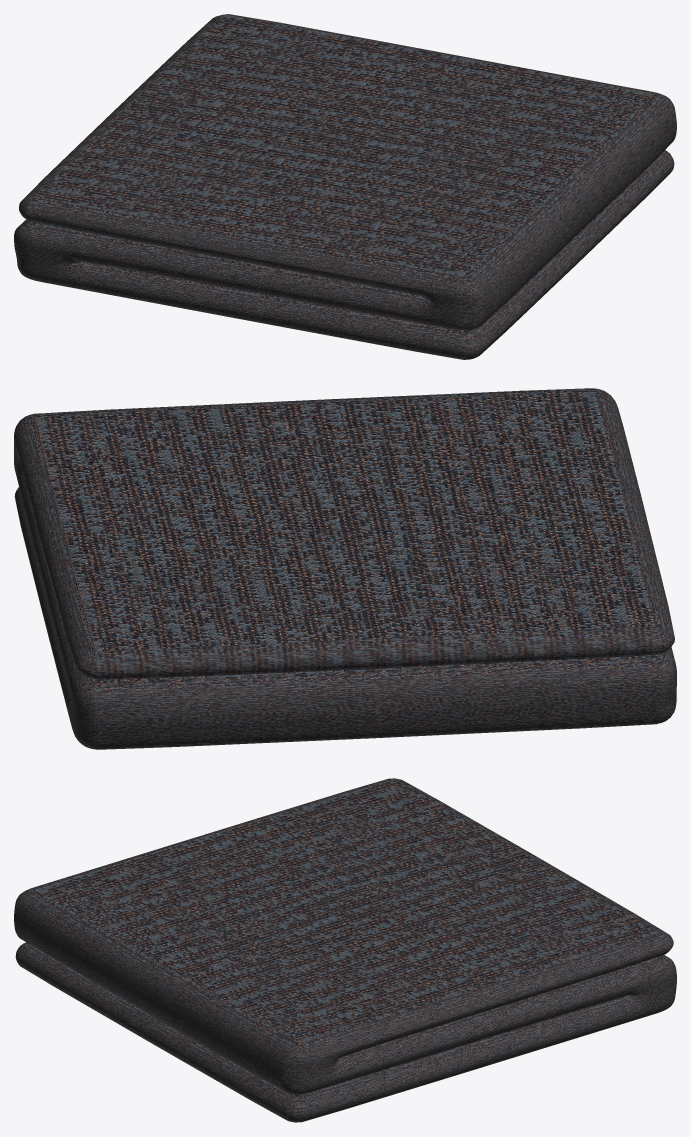
File: sweater2.fbx
3 views of the same model, one above another, from view 1: azimuth 30°, elevation 25°; view 2: azimuth 150°, elevation 25°; view 3: azimuth 270°, elevation 25° (orthographic). The views are drawn at different scales.
Parts seen in each view (by area): view 1: pCube55; view 2: pCube55; view 3: pCube55.
Part boxes in pixels (x1,y1,x2,y2): pCube55: (14, 14, 676, 359); pCube55: (14, 388, 676, 749); pCube55: (14, 778, 676, 1122).
Size of the model in its own units: 0.0136 by 0.00186 by 0.0136.
Materials: 1 (1 with a texture image).
